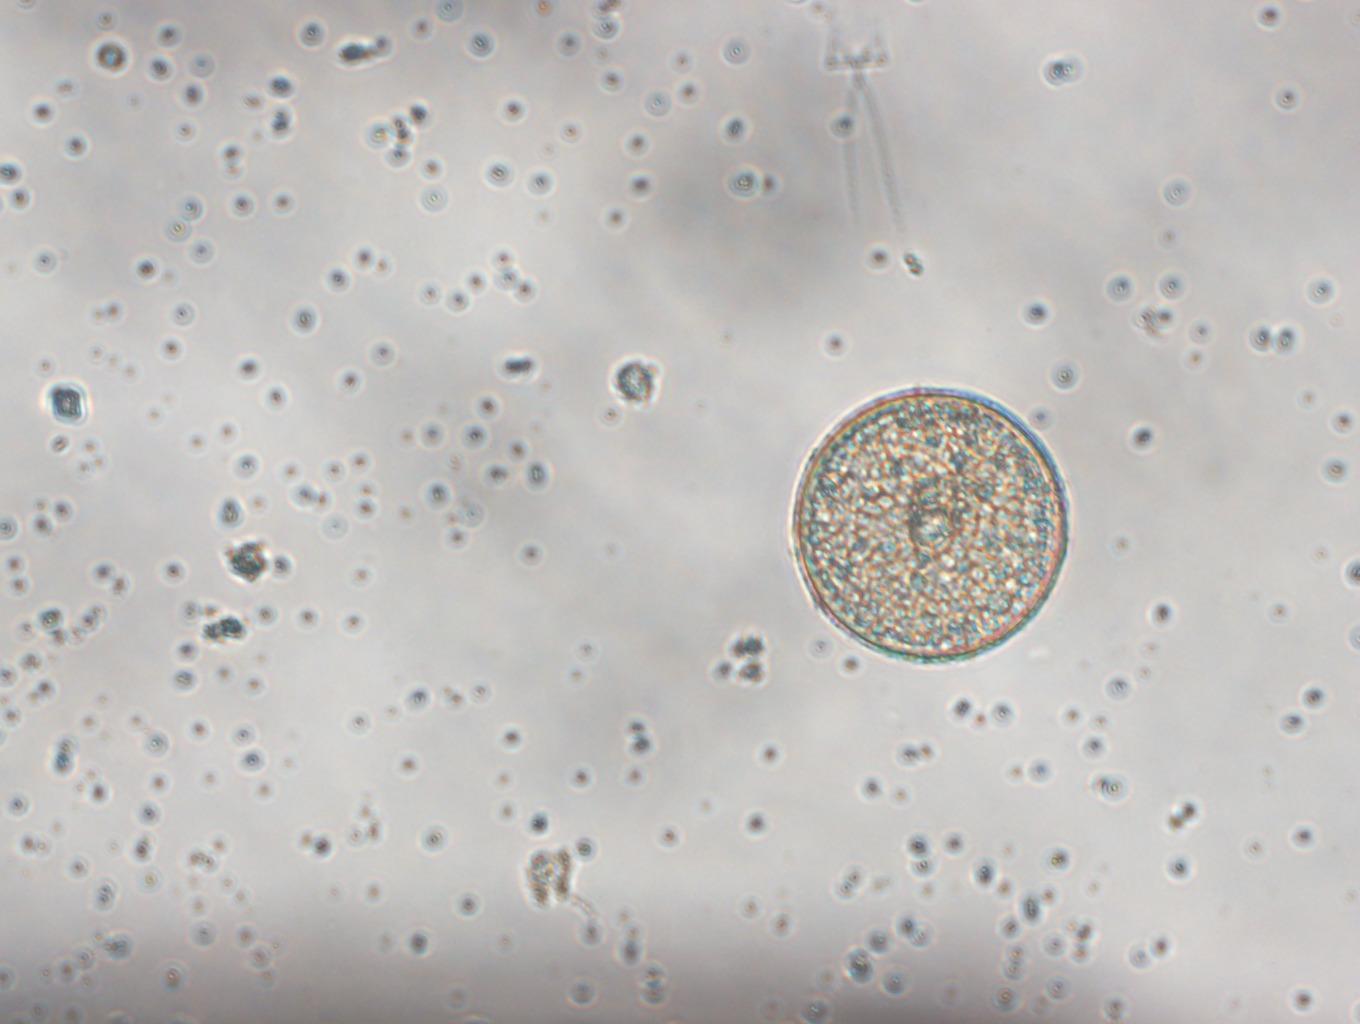coscinodiscus: (781, 384, 1085, 674)
